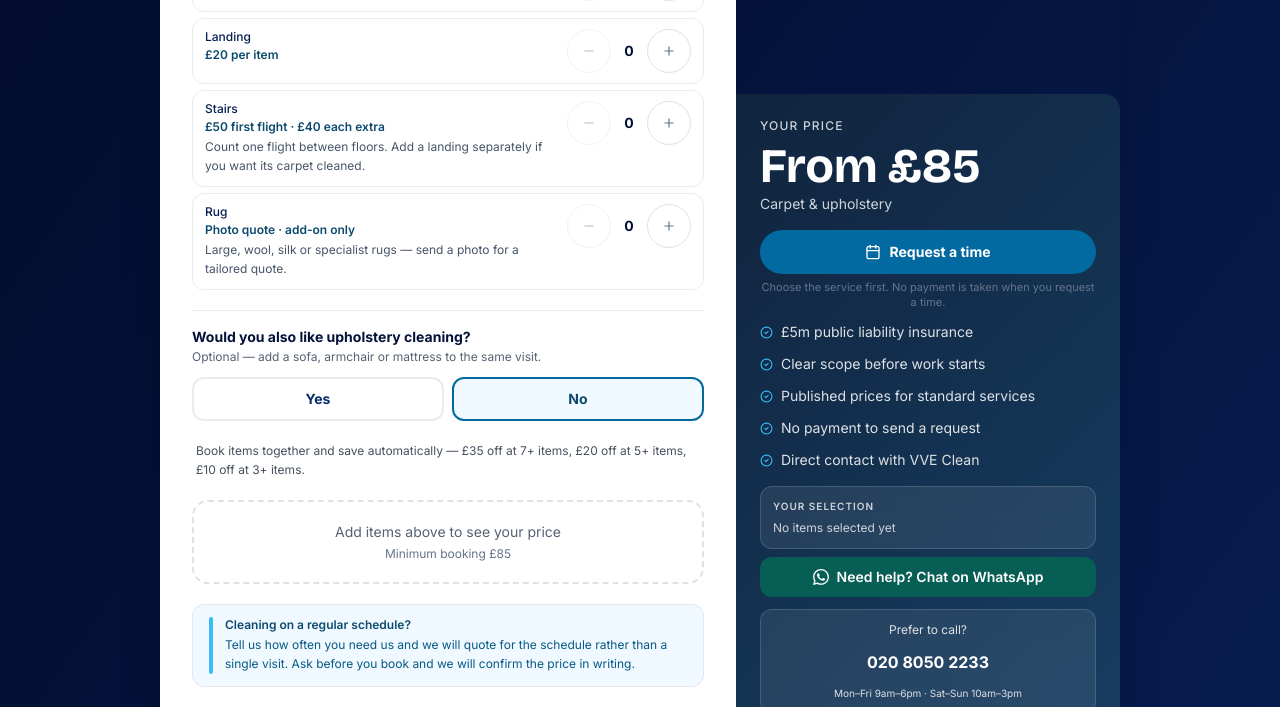
Test case: Carpet page — optional upholstery disclosure › reveals the real upholstery controls when the customer says Yes
(page scrolled)
What coordinates should you click on to do the following:
click the button "Yes"
I would click on:
 (318, 399)
Its box is [192,377,444,421].
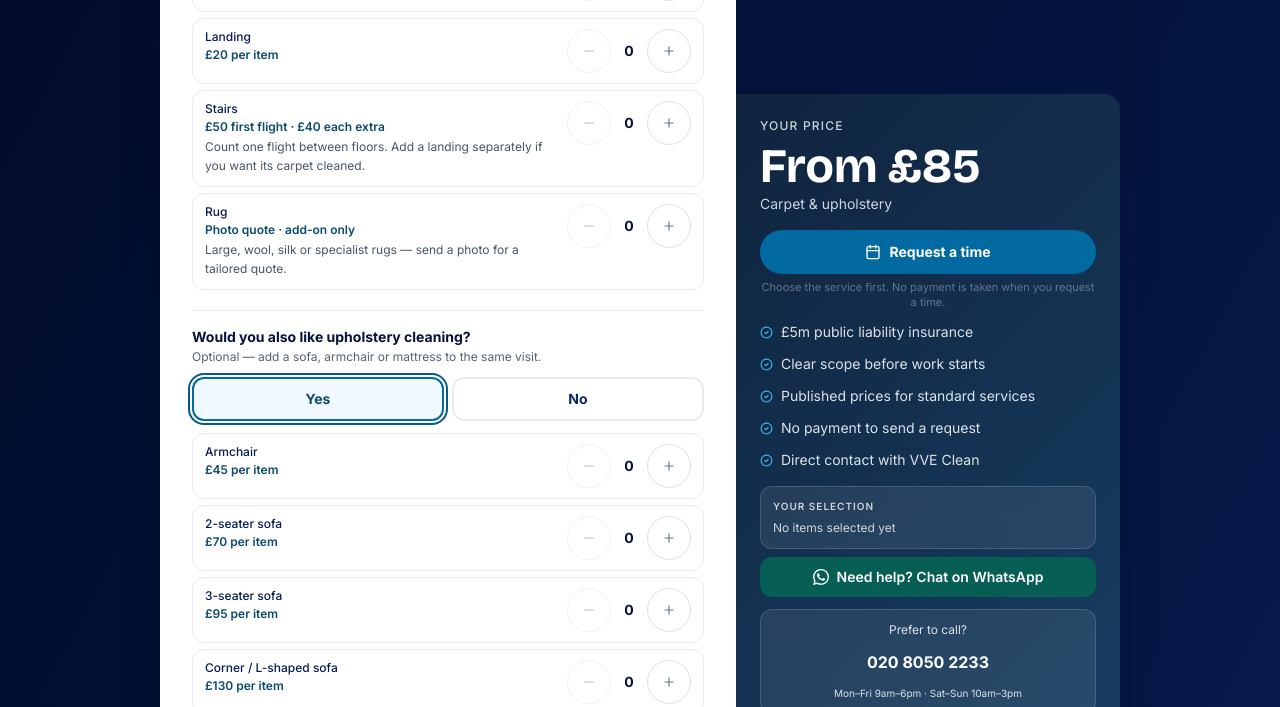
Check: the button "Yes" is expanded, box [192,377,444,421]
Check: the text "Armchair" is shown, box [205,444,258,460]
Check: the text "2-seater sofa" is shown, box [205,516,282,532]
